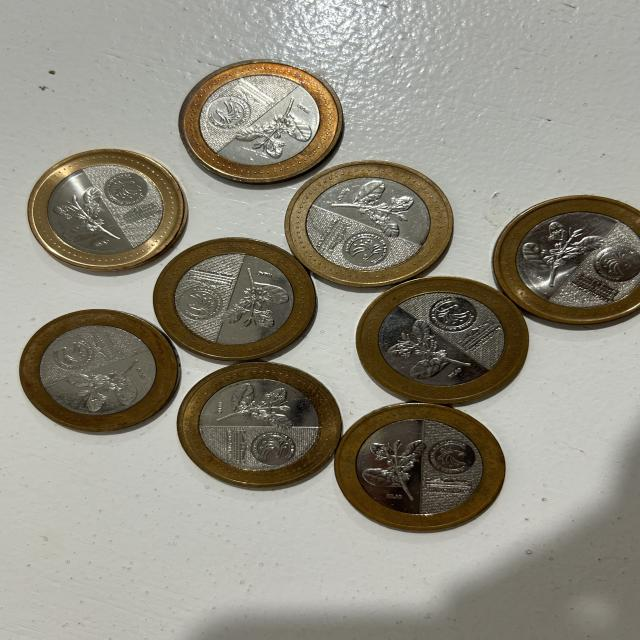20_New_Back: (526, 222, 600, 284), (392, 322, 471, 380), (225, 266, 292, 332), (70, 360, 147, 412), (357, 442, 424, 500), (56, 188, 118, 249), (342, 181, 411, 235), (223, 382, 299, 431), (239, 102, 306, 156)
